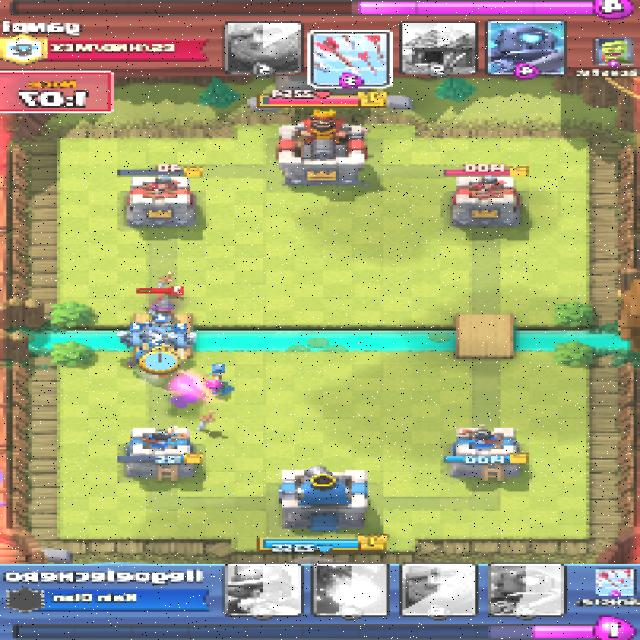Enemy-Musketeer: (148, 296, 175, 321)
Player-Archer: (207, 379, 230, 398)
Player-Knight: (128, 348, 186, 375)
Player-Minion: (118, 330, 150, 346), (148, 321, 173, 338), (169, 331, 190, 347)
